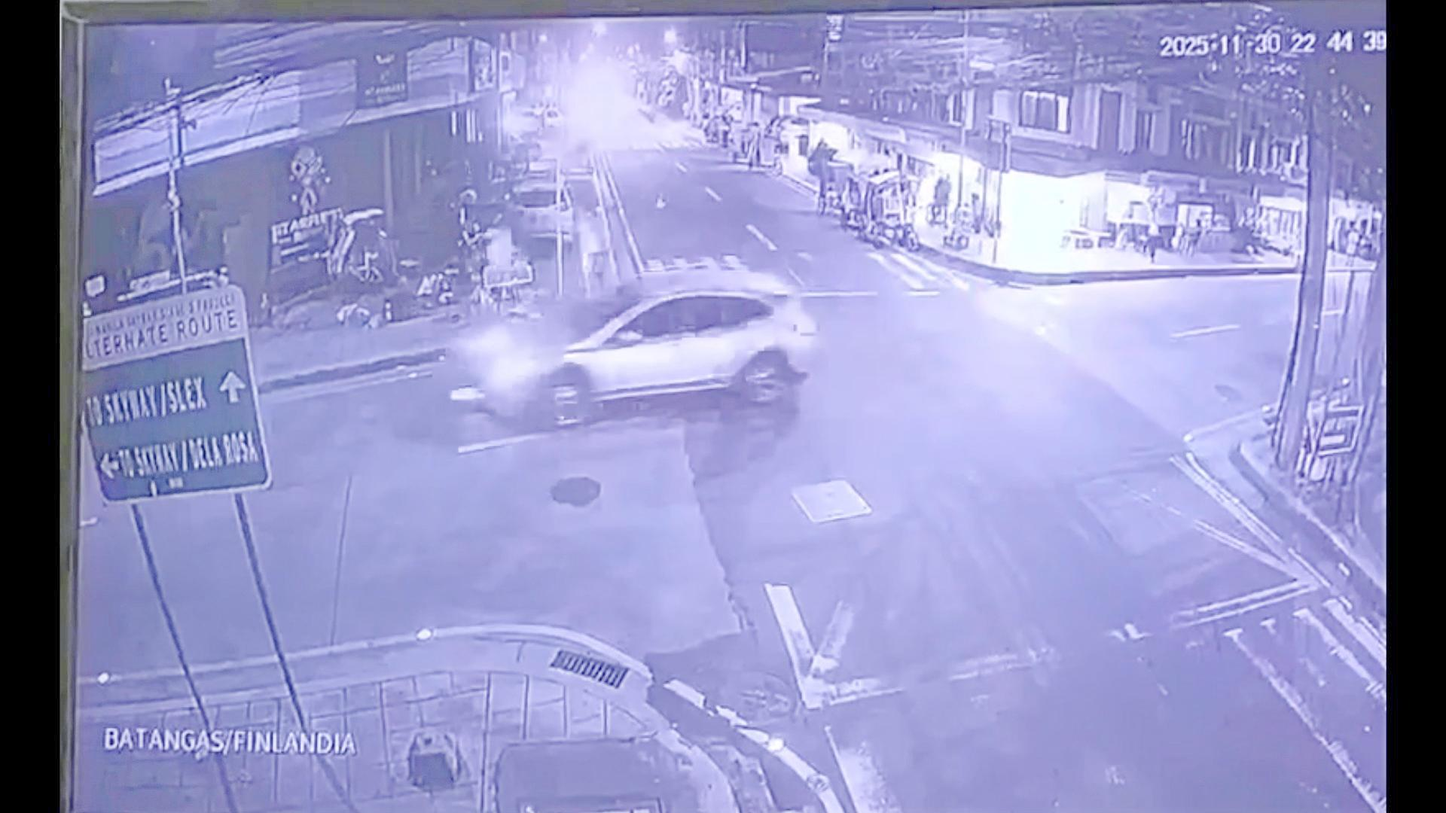Car: (478, 268, 820, 434)
